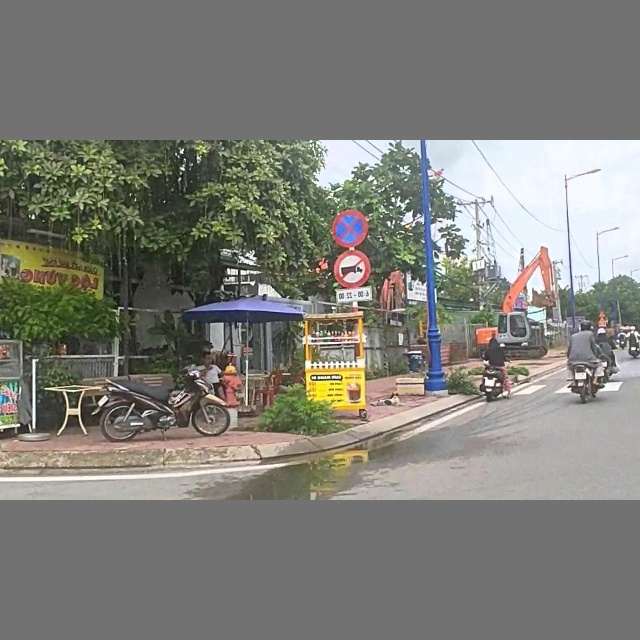B.8a: (334, 250, 371, 288)
P.130: (331, 209, 367, 247)
